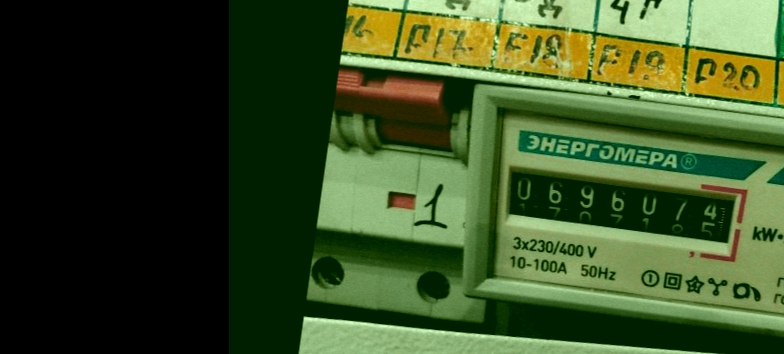0: (514, 172, 536, 200), (640, 187, 660, 215)
4: (702, 195, 721, 219)
5: (699, 218, 718, 240)
6: (608, 183, 630, 212), (546, 176, 567, 203)
7: (672, 193, 691, 221)
9: (577, 179, 597, 207)
screen: (491, 150, 753, 265)
